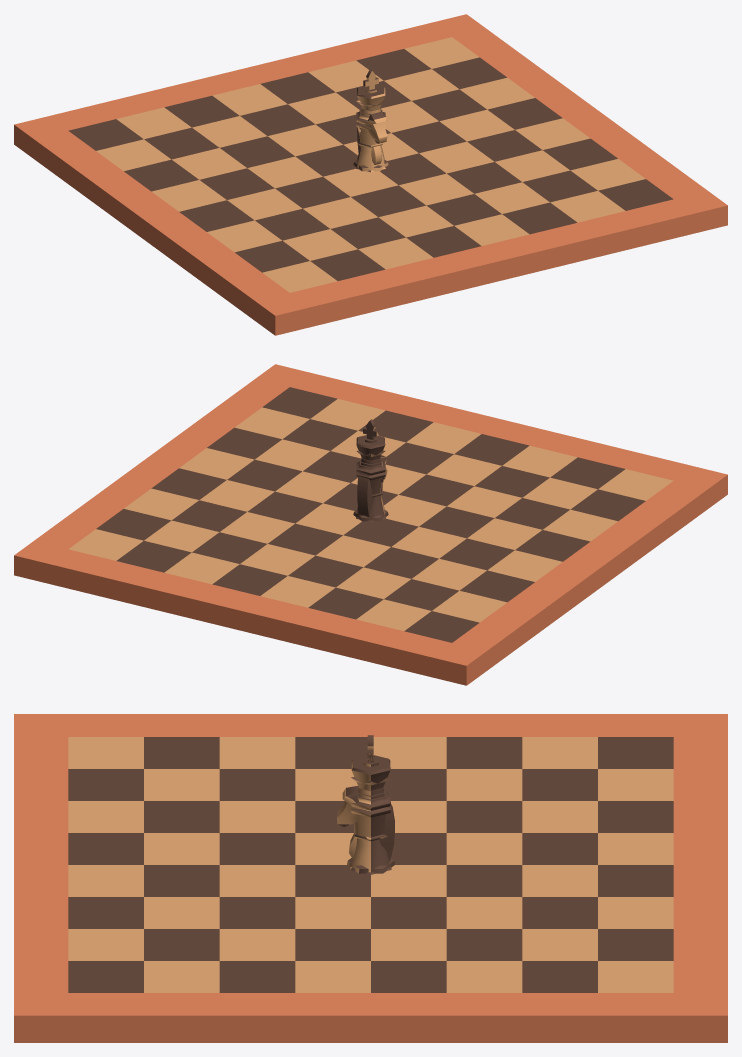
The model's file is Chess_01.fbx.
3 views of the same model, one above another, from view 1: azimuth 30°, elevation 25°; view 2: azimuth 150°, elevation 25°; view 3: azimuth 270°, elevation 25° (orthographic). The views are drawn at different scales.
Parts seen in each view (by area): view 1: Chess_01, Chess_King_Light, Chess_Knight_Light; view 2: Chess_01, Chess_King_Dark, Chess_Knight_Dark, Chess_Queen_Dark; view 3: Chess_01, Chess_King_Dark, Chess_Knight_Dark, Chess_Queen_Dark, Chess_Knight_Light, Chess_King_Light, Chess_Queen_Light.
Boxes of the visible parts, x1,y1,x2,y2 form: Chess_01: (14, 14, 727, 335); Chess_King_Light: (356, 71, 385, 152); Chess_Knight_Light: (357, 117, 388, 171); Chess_01: (14, 364, 727, 685); Chess_King_Dark: (356, 419, 385, 501); Chess_Knight_Dark: (353, 455, 388, 521); Chess_Queen_Dark: (356, 444, 385, 522); Chess_01: (14, 714, 727, 1042); Chess_King_Dark: (352, 735, 390, 847); Chess_Knight_Dark: (338, 786, 394, 873); Chess_Queen_Dark: (350, 767, 391, 874); Chess_Knight_Light: (337, 788, 362, 873); Chess_King_Light: (351, 746, 373, 847); Chess_Queen_Light: (350, 778, 390, 872).
Bounding box in the file's own units: 0.5396 × 0.1309 × 0.5396.
